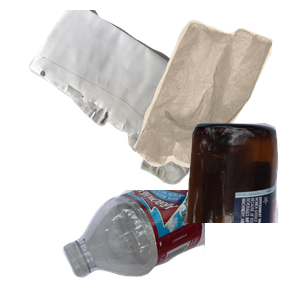glass: (87, 120, 300, 300)
paper: (27, 10, 252, 187)
plastic: (60, 190, 300, 280)
trash: (132, 17, 300, 177)
